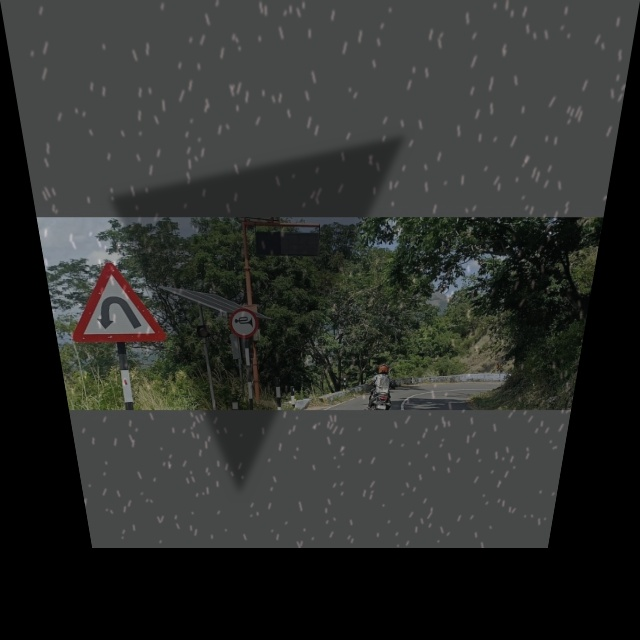Left_Hair_Pin_Bend: (59, 257, 170, 346)
